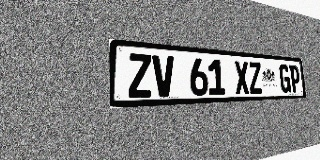1: (207, 59, 225, 95)
6: (189, 57, 209, 96)
G: (279, 64, 291, 93)
P: (289, 65, 301, 92)
V: (152, 55, 175, 97)
X: (234, 61, 250, 94)
Z: (128, 53, 153, 98), (248, 62, 263, 94)
